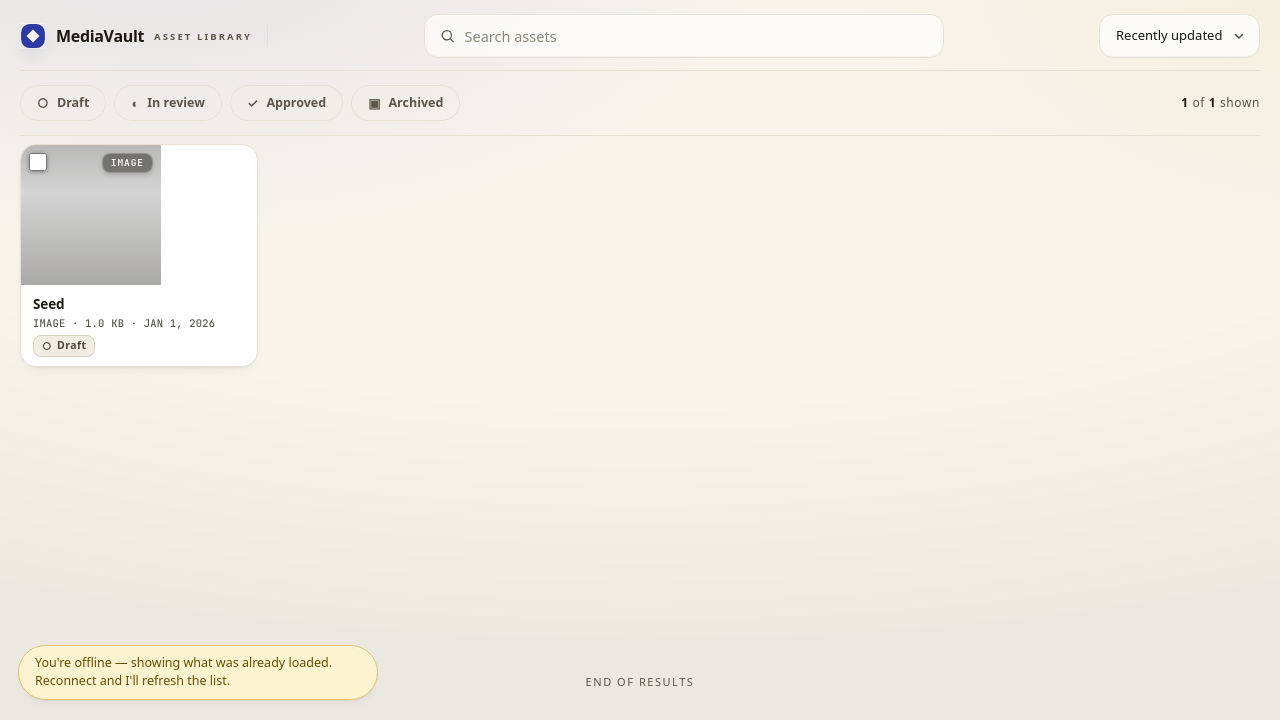
Test: offline resilience › pauses feed requests while offline and refetches on reconnect
Expected: the text "You're offline" is shown, [35,654,332,689]
Type "trail" into the search field at [684, 36], box [424,14,944,58]
Wait 400 ms
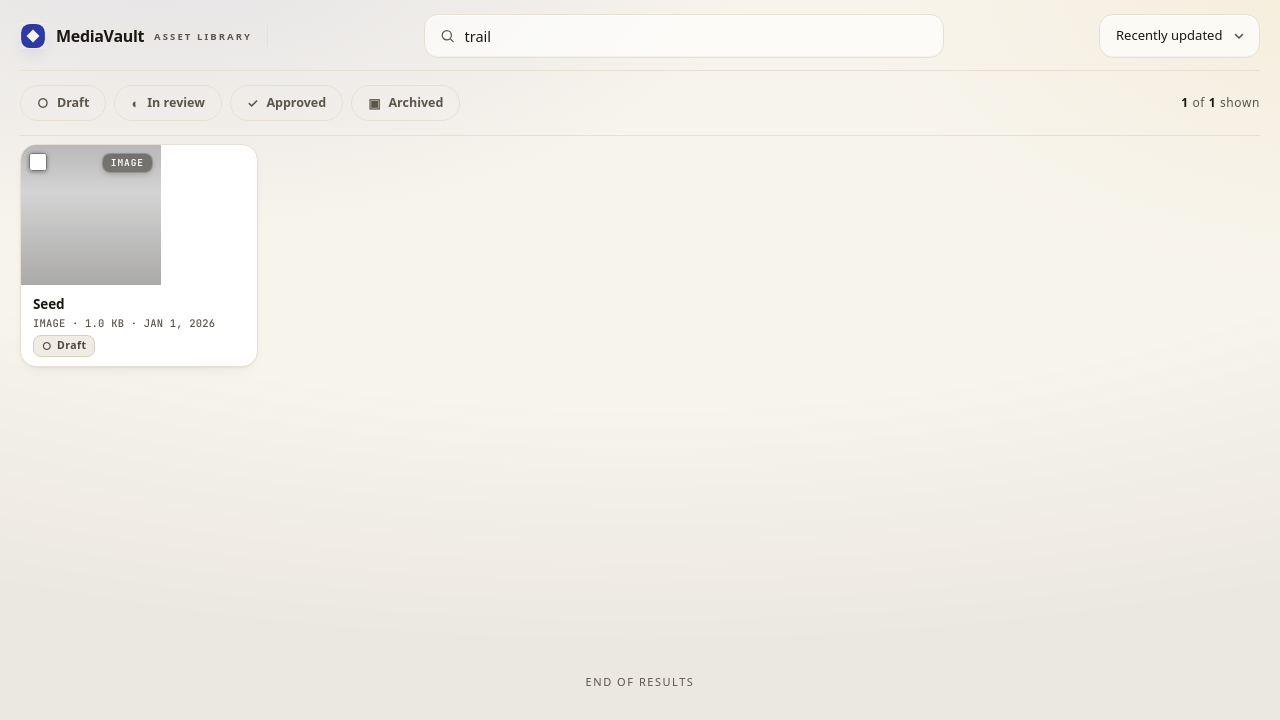
Expected: the text "Seed" is shown, [33,295,64,313]
Expected: the text "You're offline" is gone
